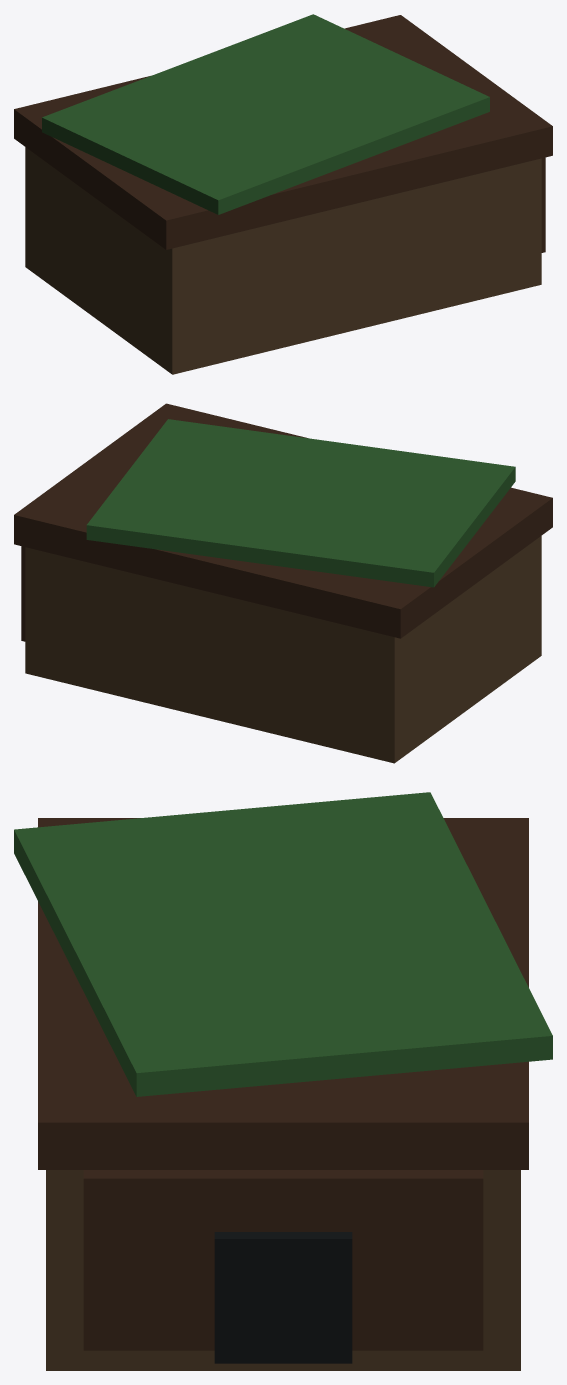
The model's file is nva-bunker.glb.
The picture shows the model from 3 angles, top to bottom: view 1: azimuth 30°, elevation 25°; view 2: azimuth 150°, elevation 25°; view 3: azimuth 270°, elevation 25°; orthographic projection. The views are drawn at different scales.
Visible parts, largest first — view 1: earthShell, camouflageBranches, roofLogs, timberFace; view 2: earthShell, camouflageBranches, roofLogs, timberFace; view 3: camouflageBranches, roofLogs, timberFace, earthShell, entrance.
Part boxes in pixels (box(x1,y1,x2,y2)): earthShell: box(25, 147, 541, 374); camouflageBranches: box(42, 14, 489, 214); roofLogs: box(14, 15, 552, 249); timberFace: box(541, 157, 545, 252); earthShell: box(25, 536, 541, 763); camouflageBranches: box(86, 419, 515, 587); roofLogs: box(14, 403, 552, 638); timberFace: box(21, 546, 25, 641); camouflageBranches: box(14, 792, 552, 1096); roofLogs: box(38, 818, 528, 1169); timberFace: box(83, 1170, 483, 1350); earthShell: box(46, 1170, 520, 1370); entrance: box(214, 1232, 352, 1363).
Bounding box in the file's own units: 2.31 × 0.94 × 1.65.
